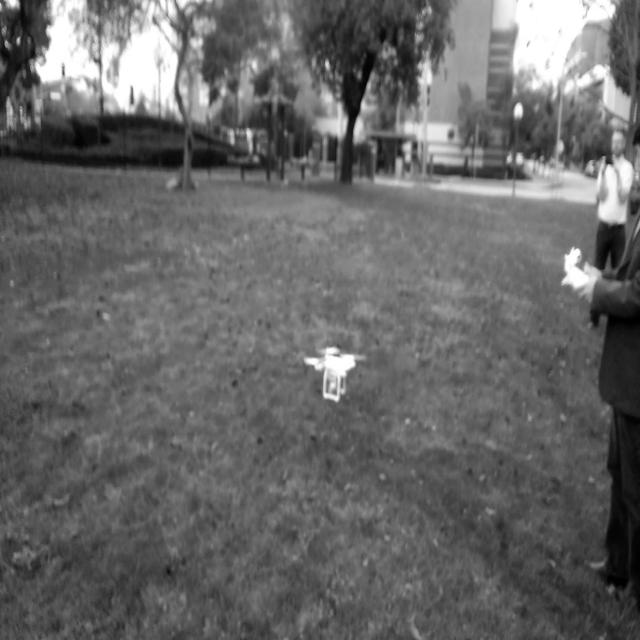drone: (303, 348, 360, 401)
